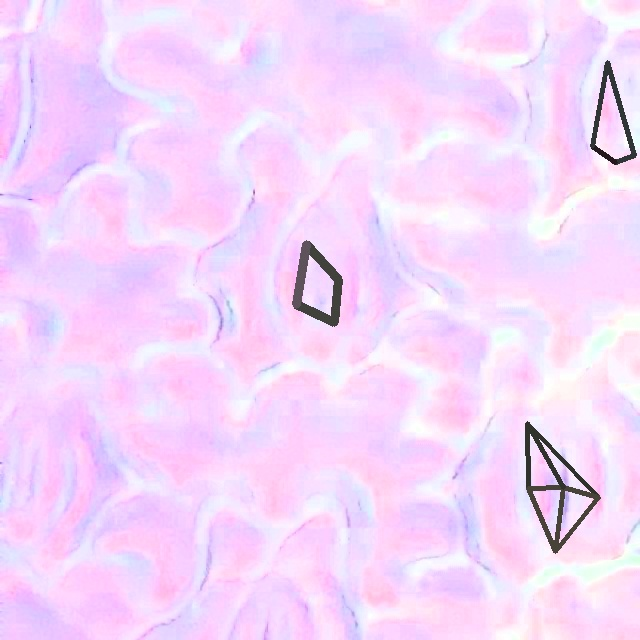close: (293, 241, 341, 325)
open: (526, 421, 600, 553), (590, 61, 635, 163)
